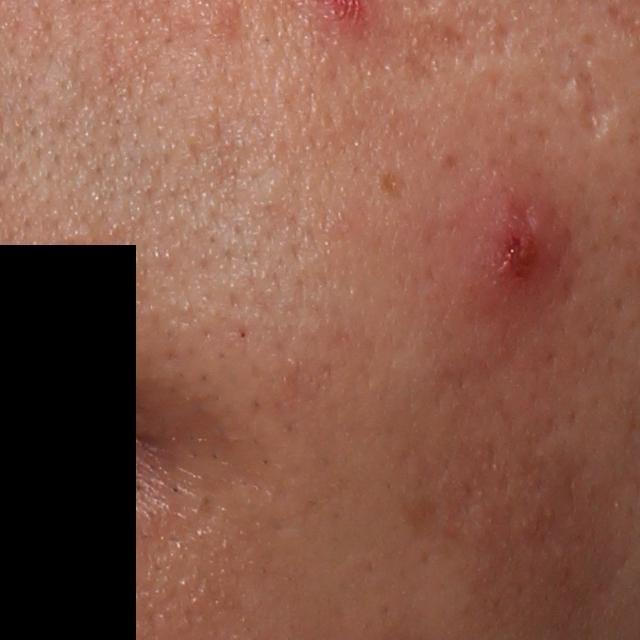atrophic_scar: (551, 43, 618, 140)
papule: (470, 201, 553, 303)
